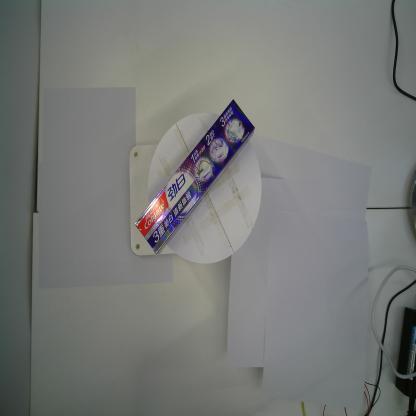Personal Hygiene: (134, 99, 254, 253)
